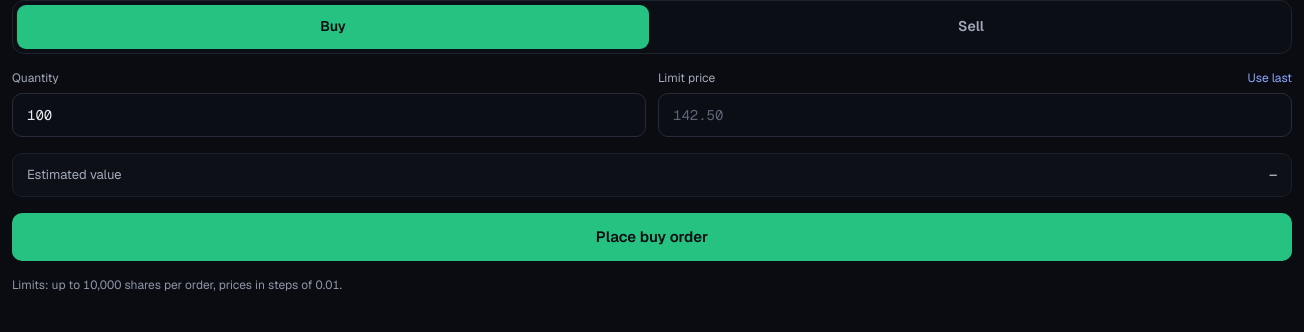
Test case: OrderTicket › validation › shows inline messages on submit and sends nothing
The width and height of the screenshot is (1304, 332).
Replace the text in the field labelled "Quantity" with "1.5": (329, 115) [12,93,646,137]
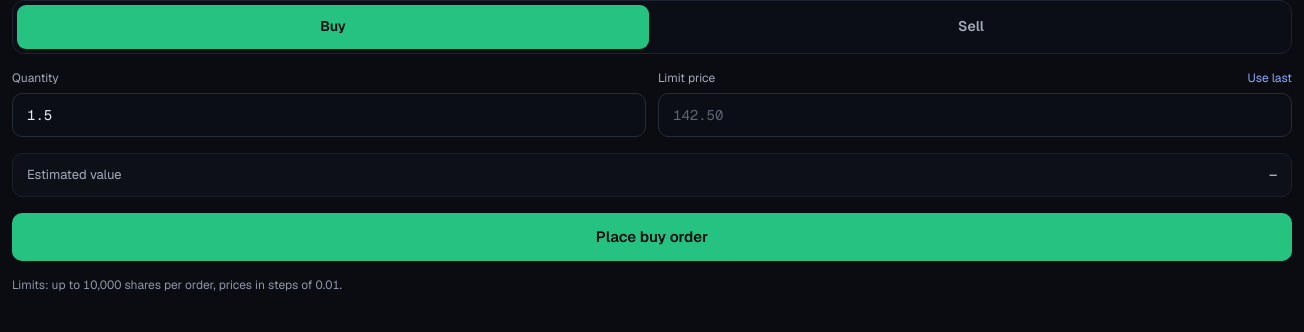
In the field labelled "Limit price": (975, 115) [658,93,1292,137], type "142.505"
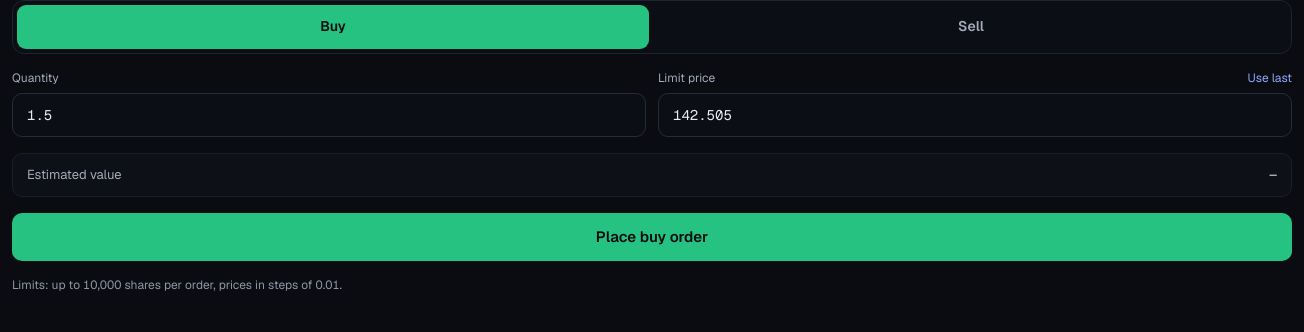
Click the button "Place buy order": click(652, 237) [12,213,1292,261]
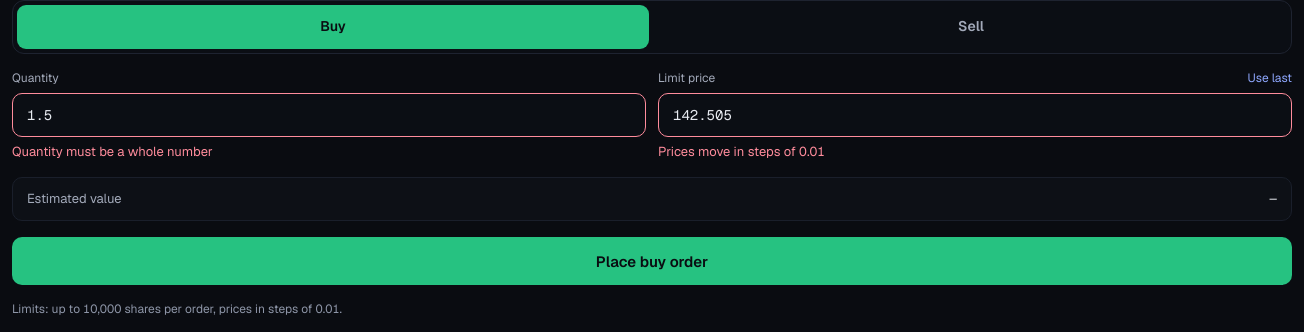
Check: the text "Quantity must be a whole number" is shown, box [12,143,213,160]
Check: the text "Prices move in steps of 0.01" is shown, box [658,143,825,160]
